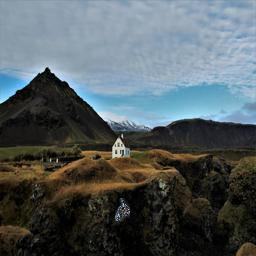Woodpecker: (116, 199, 131, 222)
